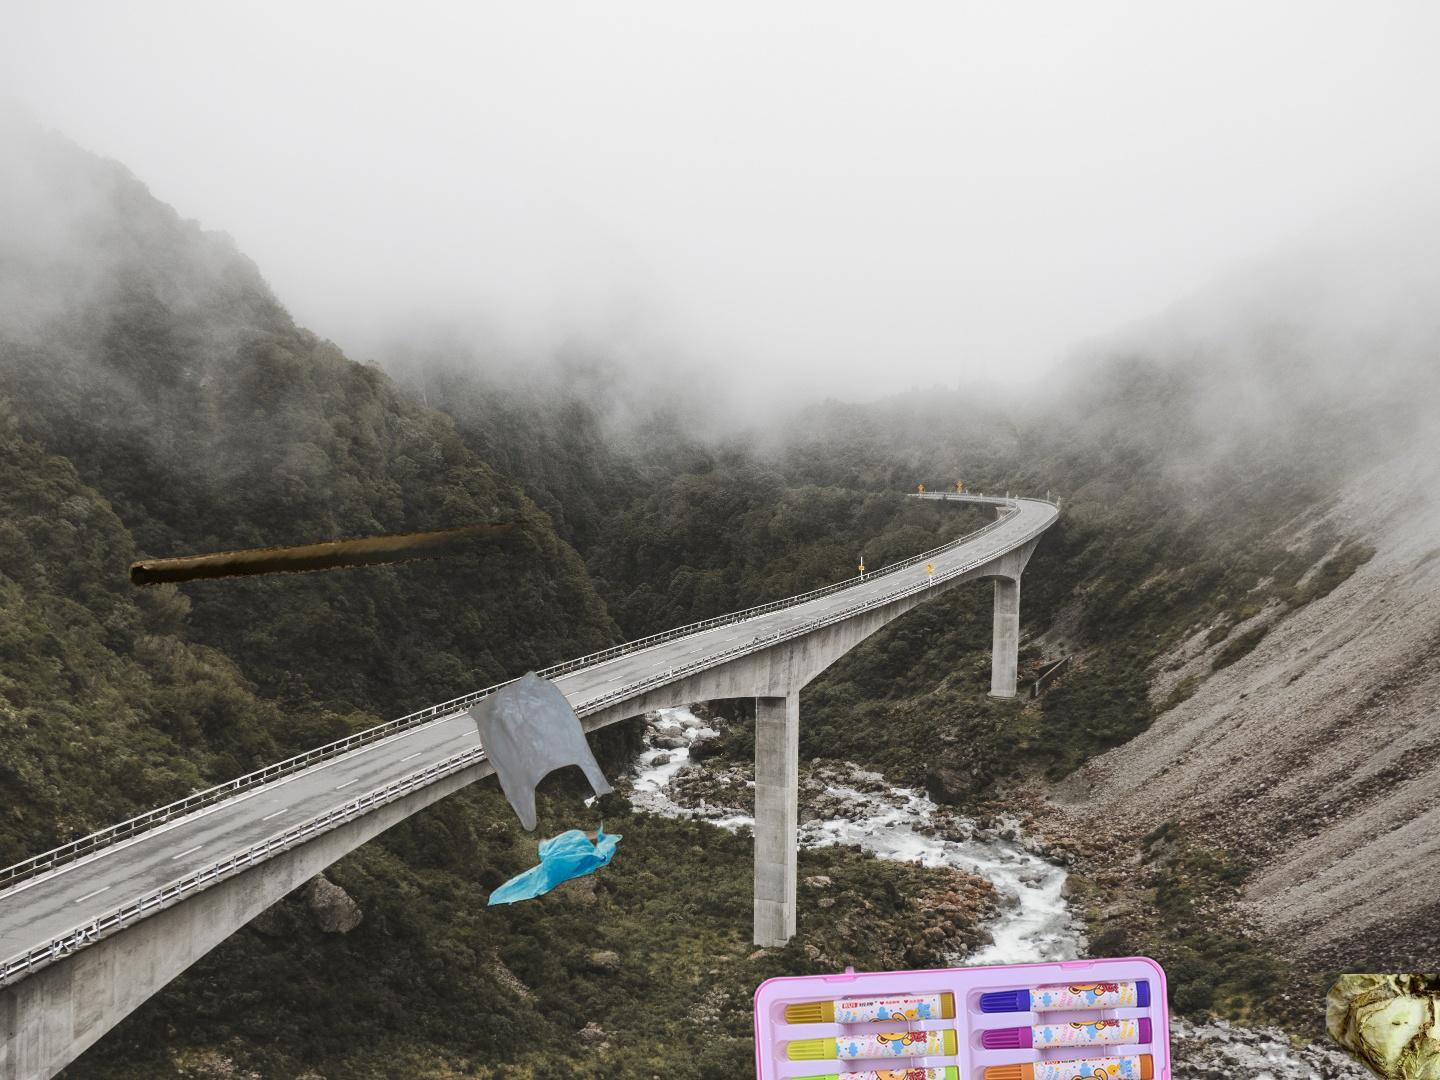biological: (1322, 974, 1440, 1080)
penholder: (747, 950, 1225, 1080)
plastic-bag: (465, 669, 626, 909)
trashbox-cardboard: (115, 516, 536, 594)
